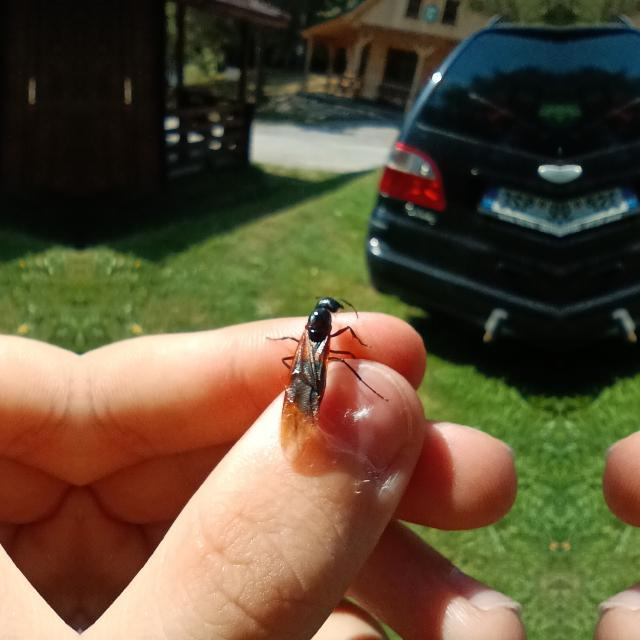Camponotus: (268, 286, 358, 432)
